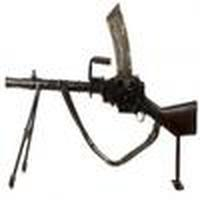gun: (2, 4, 200, 194)
